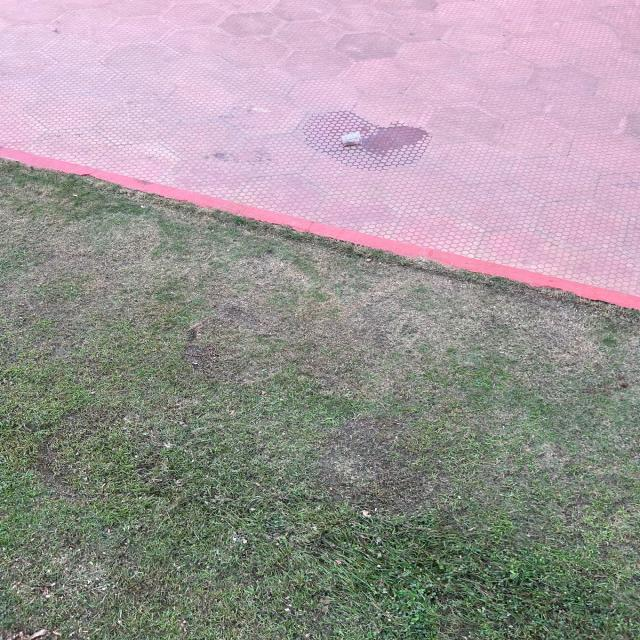cup: (341, 132, 363, 145)
spill: (363, 132, 417, 146)
